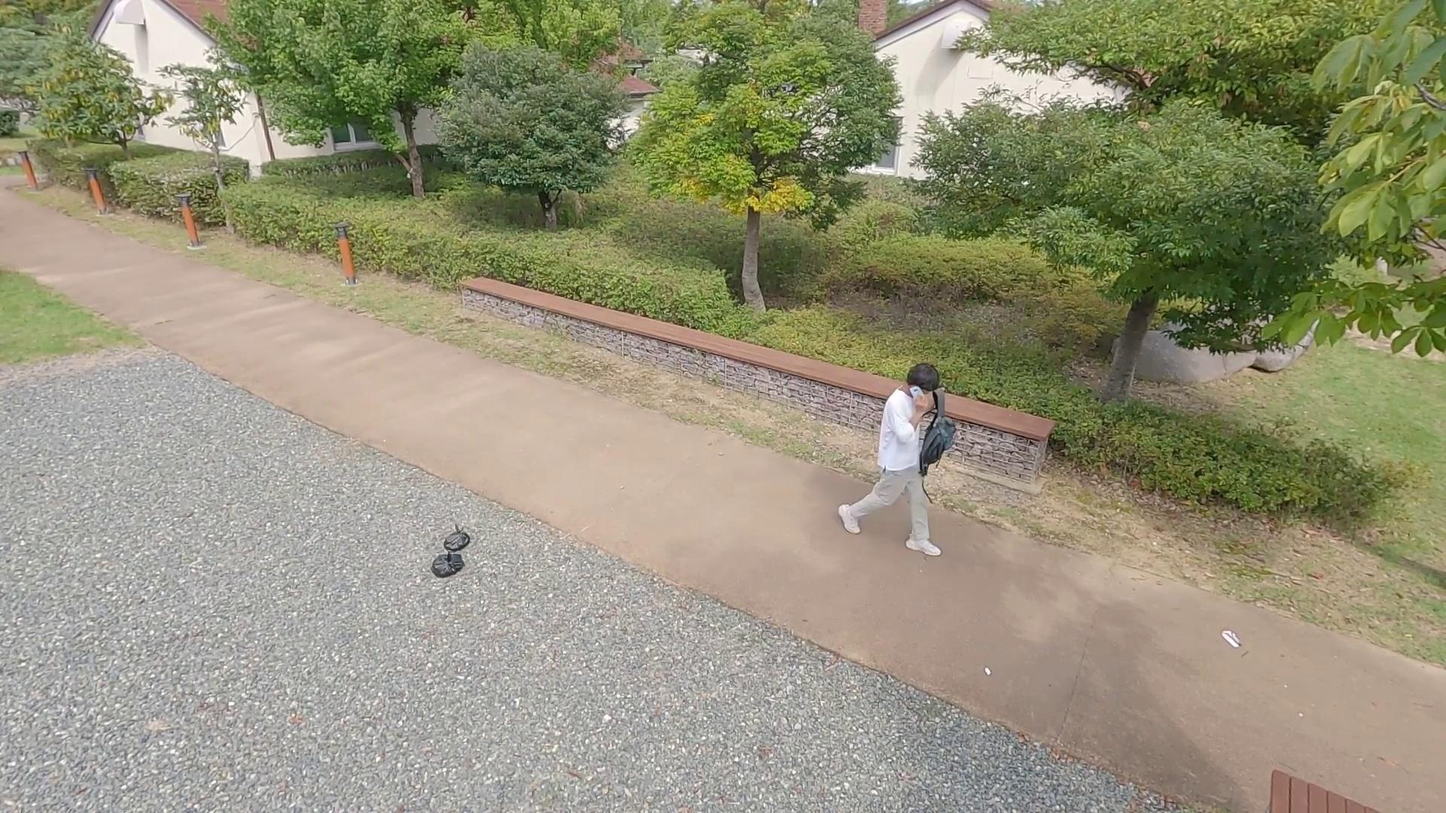person: (835, 344, 966, 565)
trash: (424, 548, 475, 584), (439, 521, 473, 556)
